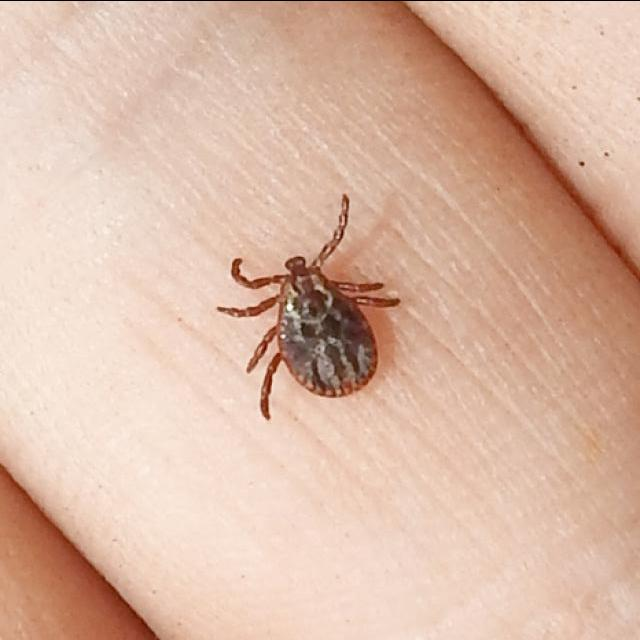Dermacentor Reticulatus-M: (217, 193, 400, 417)
